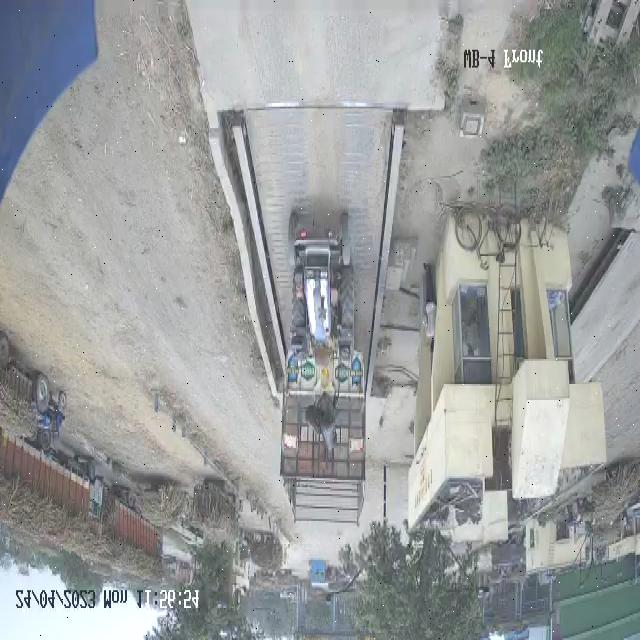Tratores - v5 YOLO V8L 2024-11-13: (284, 190, 368, 377), (32, 373, 74, 450)
